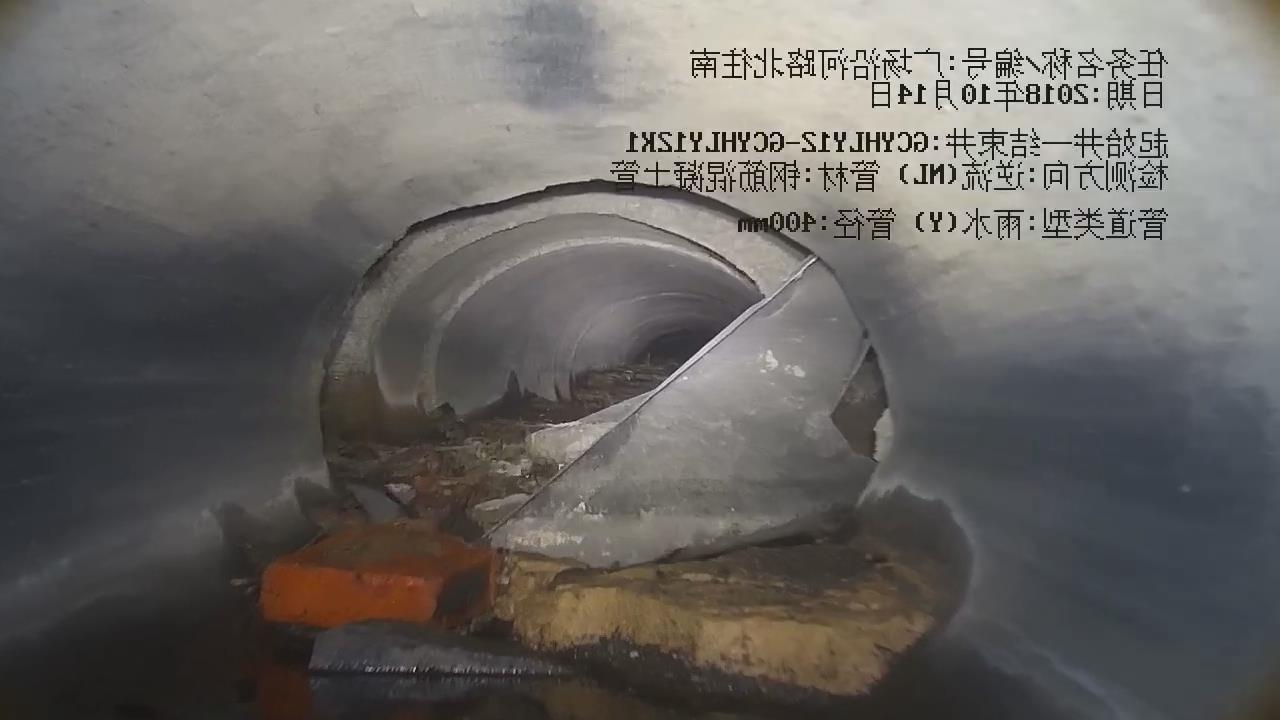CJ: (260, 353, 950, 710)
CKTJ: (310, 172, 911, 502)
JKCL: (489, 261, 876, 567)
